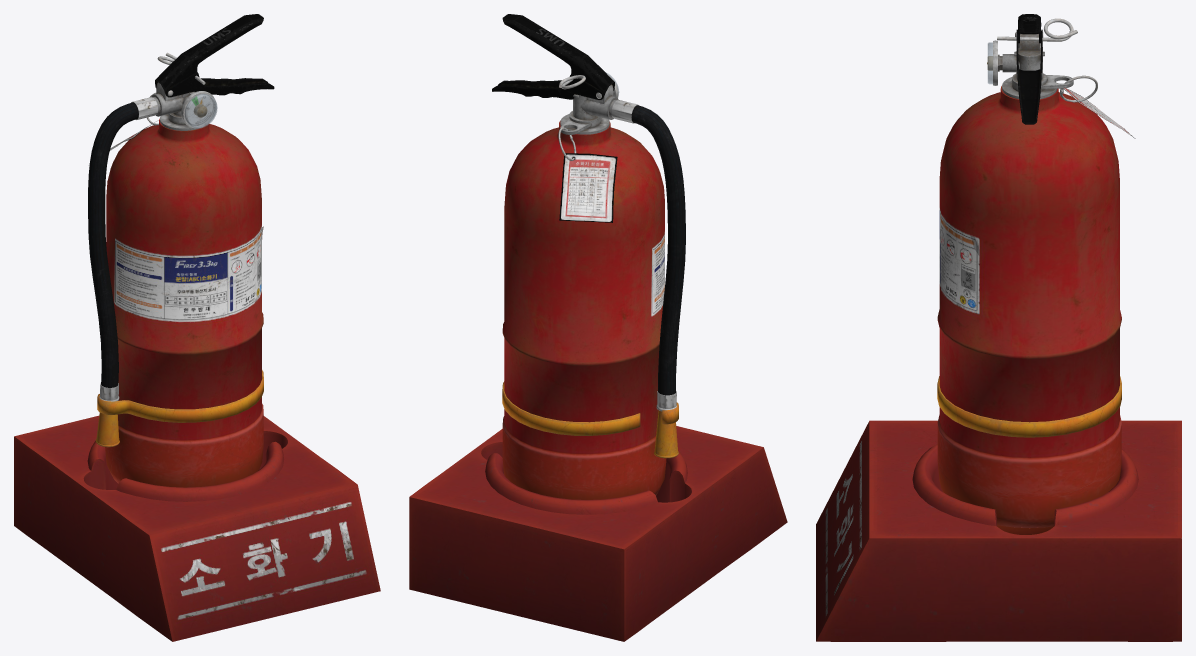
3 views of the same model, side by side, from view 1: azimuth 30°, elevation 25°; view 2: azimuth 150°, elevation 25°; view 3: azimuth 270°, elevation 25° (orthographic). The views are drawn at different scales.
Parts seen in each view (by area): view 1: korean_fire_extinguisher_01; view 2: korean_fire_extinguisher_01; view 3: korean_fire_extinguisher_01.
Boxes of the visible parts, left/top/right/bottom form: korean_fire_extinguisher_01: left=14, top=14, right=380, bottom=641; korean_fire_extinguisher_01: left=409, top=14, right=787, bottom=641; korean_fire_extinguisher_01: left=816, top=14, right=1181, bottom=641.
Bounding box in the file's own units: 0.28 × 0.6593 × 0.3674.
3 materials, 3 textured.
